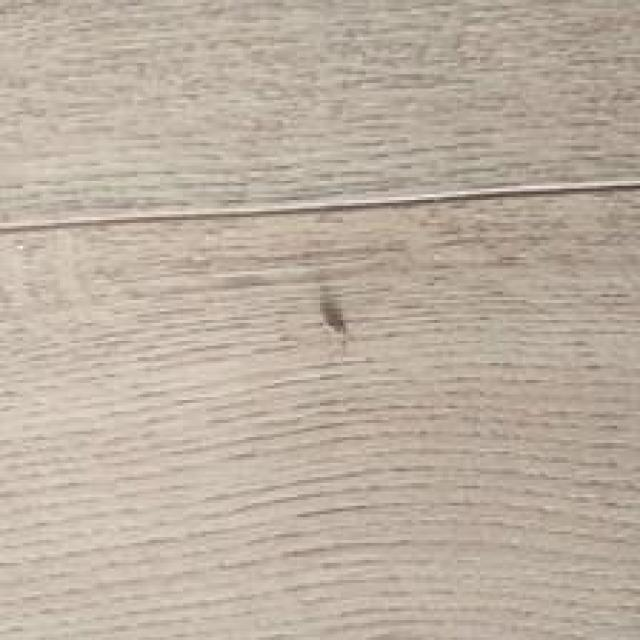Culex: (316, 282, 350, 347)
